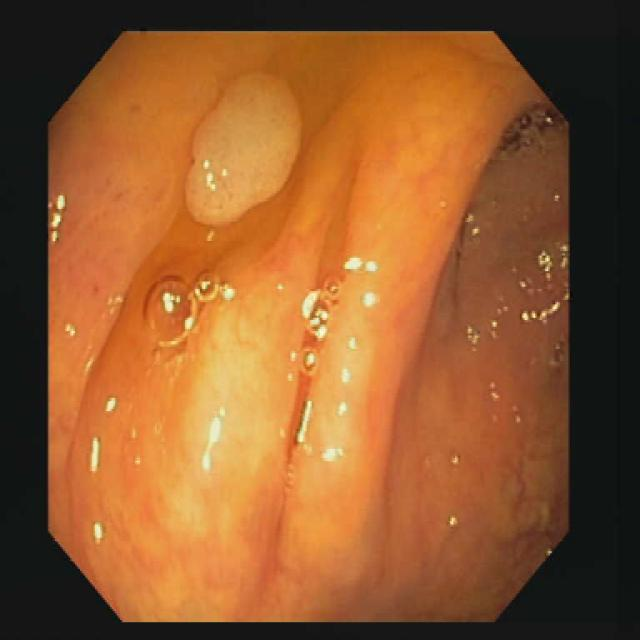tumor: (187, 73, 300, 224)
